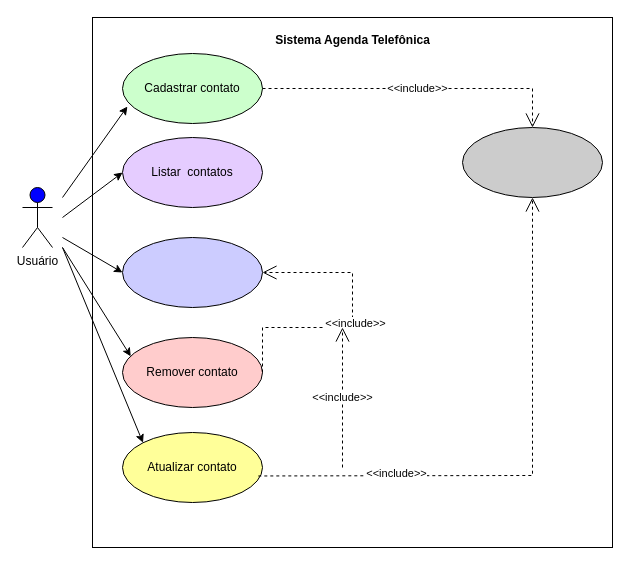
This 630x565 diagram has some shape labels left out. Each missing label, with the centre of its shape:
"Buscar contato" belongs at (192,272).
"Validar dados" belongs at (532,162).
